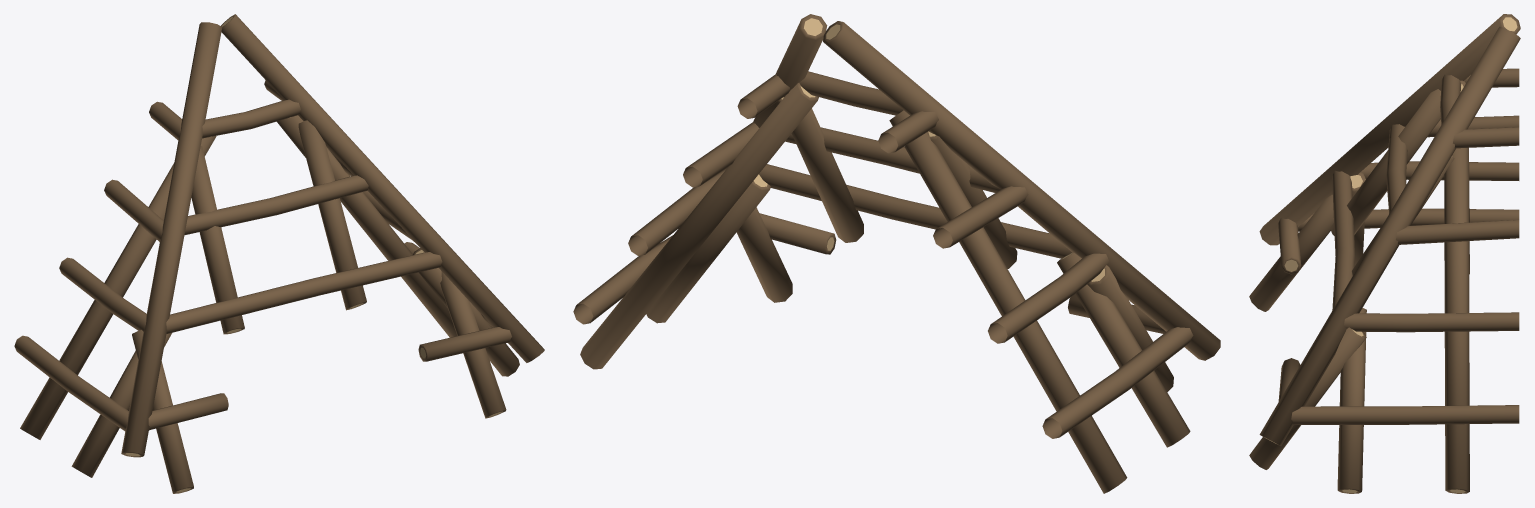
File: rpgpp_ag_roof_support_01_6x5x3_roof_02_end_04.fbx
The picture shows the model from 3 angles, left to right: view 1: azimuth 30°, elevation 25°; view 2: azimuth 150°, elevation 25°; view 3: azimuth 270°, elevation 25°; orthographic projection. The views are drawn at different scales.
Visible parts, largest first — view 1: rpgpp_ag_roof_support_01_6x5x3_roof_02_end_04; view 2: rpgpp_ag_roof_support_01_6x5x3_roof_02_end_04; view 3: rpgpp_ag_roof_support_01_6x5x3_roof_02_end_04.
Boxes of the visible parts, x1,y1,x2,y2 form: rpgpp_ag_roof_support_01_6x5x3_roof_02_end_04: (14,14,544,493); rpgpp_ag_roof_support_01_6x5x3_roof_02_end_04: (573,14,1220,493); rpgpp_ag_roof_support_01_6x5x3_roof_02_end_04: (1249,14,1520,493).
Size of the model in its own units: 6.94 by 5.28 by 3.53.
